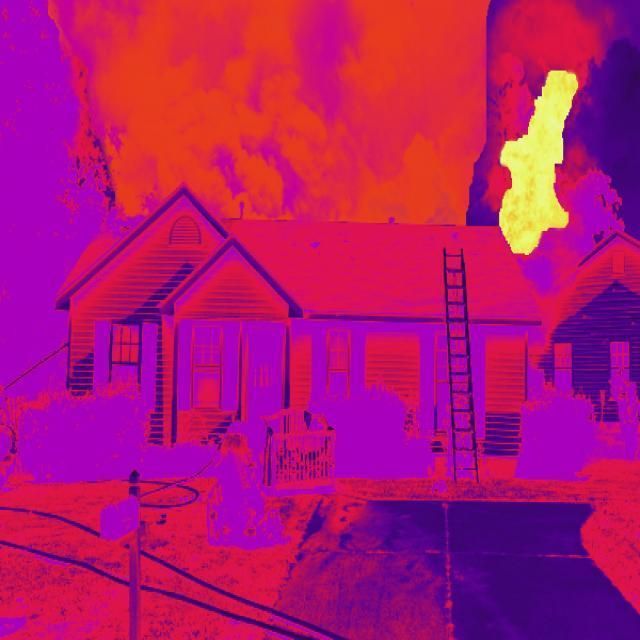fire: (494, 65, 588, 259)
